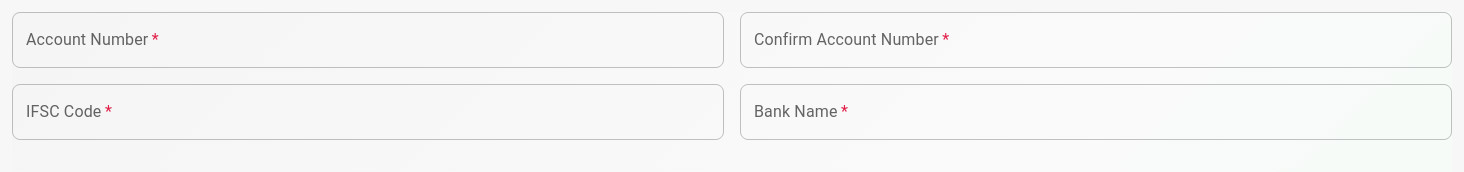
Test: BankDetailsSection › auto-fills Bank Name and makes it read-only after a successful IFSC lookup
Type "HDFC0001234" into the field labelled "IFSC Code *".
click(368, 112); type("HDFC0001234")  # box top-left (12, 84), bottom-right (724, 140)
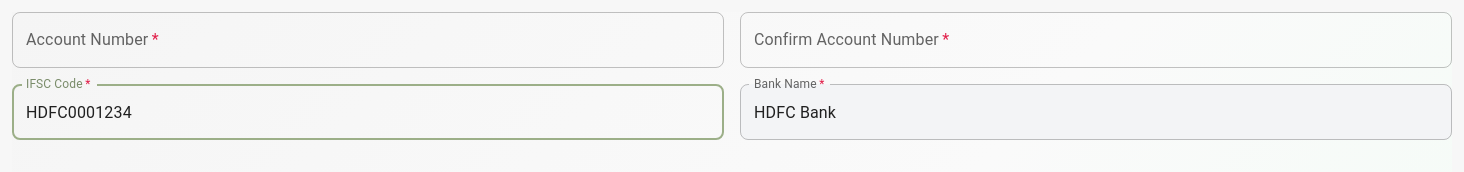
Expected: the field labelled "Bank Name *" holds "HDFC Bank", top-left (740, 84), bottom-right (1452, 140)
